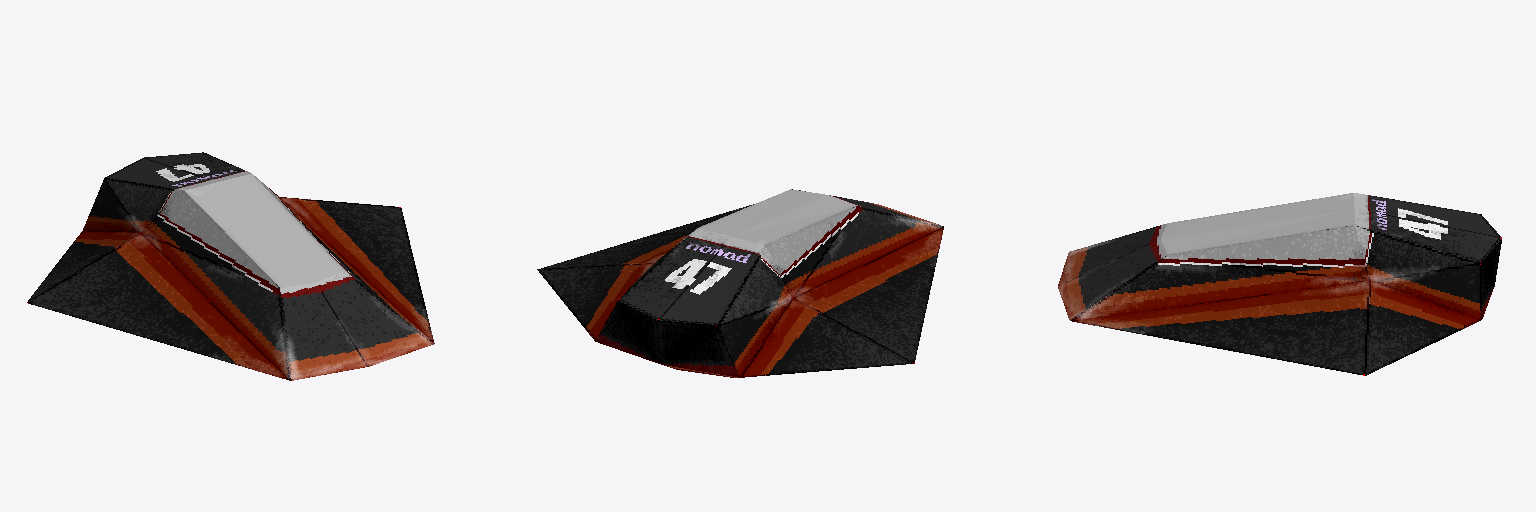
3 views of the same model, side by side, from view 1: azimuth 30°, elevation 25°; view 2: azimuth 150°, elevation 25°; view 3: azimuth 270°, elevation 25° (orthographic).
Size of the model in its own units: 2.13 by 0.5103 by 2.18.
1 materials, 1 textured.